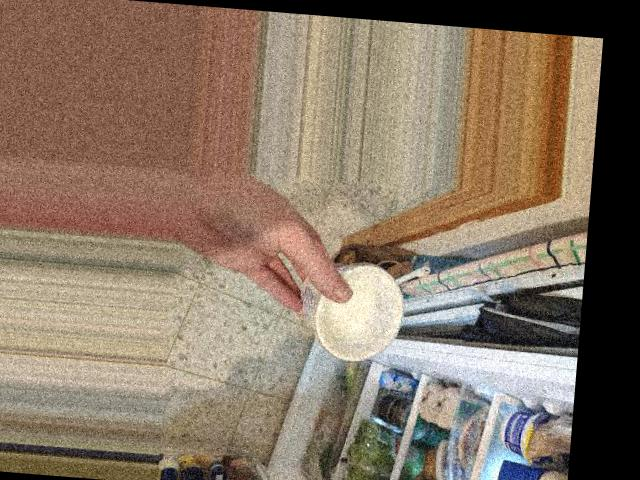cotage: (290, 255, 419, 360)
